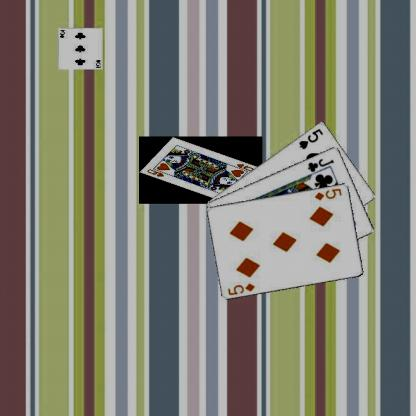5D: (312, 185, 343, 202), (225, 280, 257, 296)
5S: (296, 126, 324, 150)
JC: (305, 156, 335, 173)
